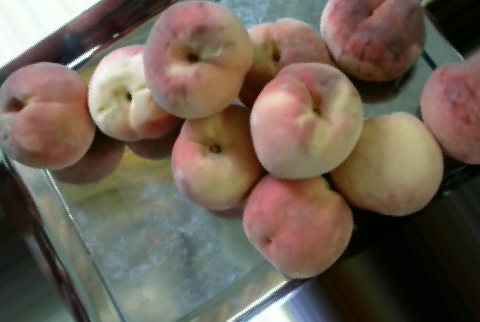Peach: (248, 62, 364, 179), (140, 1, 254, 118), (326, 105, 443, 217), (242, 172, 354, 280), (1, 58, 95, 170), (169, 105, 264, 211), (86, 43, 182, 141), (317, 0, 425, 84), (415, 49, 480, 165)
